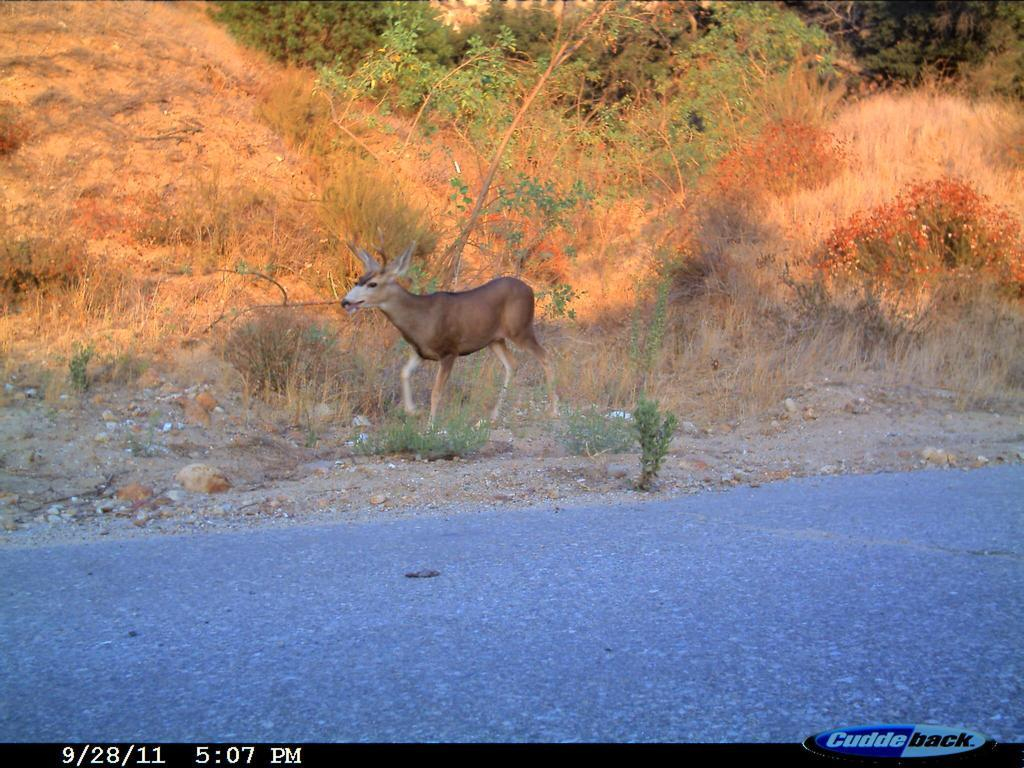deer: (338, 242, 567, 429)
